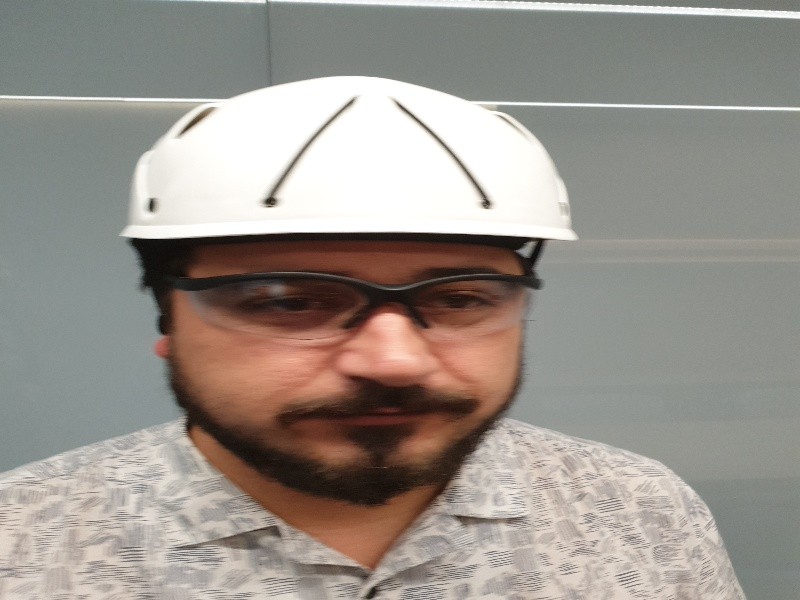Baret: (125, 73, 575, 241)
Gozluk: (159, 271, 542, 343)
